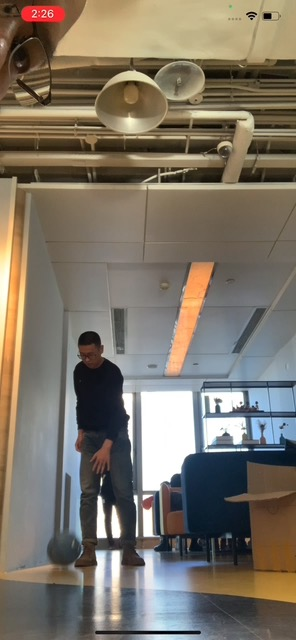ball: (48, 532, 82, 563)
